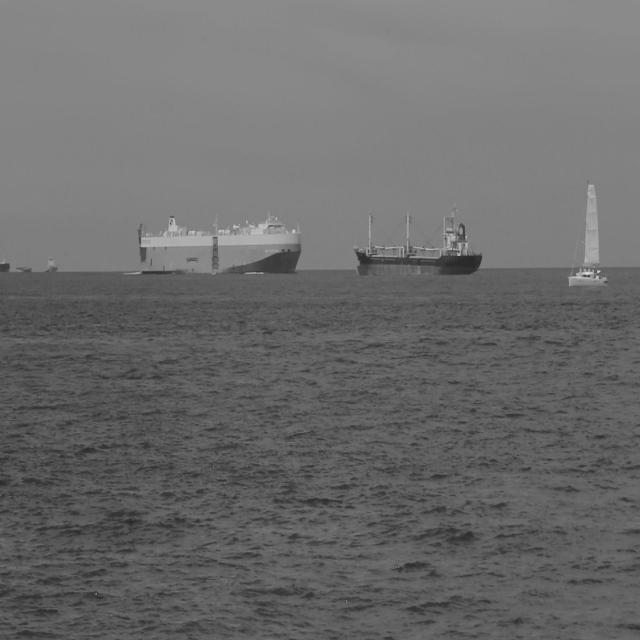ship: (135, 210, 302, 276), (352, 198, 484, 276), (566, 177, 609, 286), (44, 252, 59, 274), (14, 264, 33, 275), (0, 256, 10, 274)
